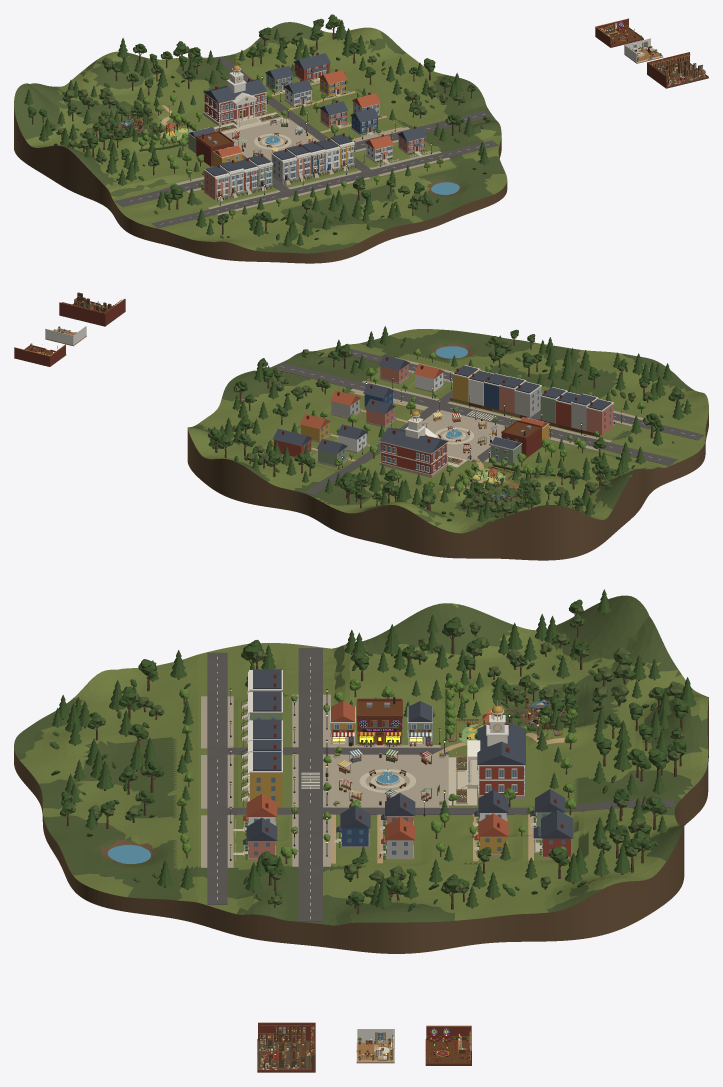
File: oh_darling_town.glb
3 views of the same model, one above another, from view 1: azimuth 30°, elevation 25°; view 2: azimuth 150°, elevation 25°; view 3: azimuth 270°, elevation 25° (orthographic). The views are drawn at different scales.
Parts seen in each view (by area): view 1: SM_Env_Terrain_Main, SM_Env_TownHall, SM_Env_Street_Home, SM_Env_Square_Paving, SM_Env_Street_Main, SM_Env_Street_East, SM_Home_Mayor, SM_Home_Rowhouse_06, SM_NeonPadma_Building, SM_Home_Rowhouse_01, SM_Home_NPC_06, SM_Home_NPC_05 (+14 smaller); view 2: SM_Env_Terrain_Main, SM_Env_TownHall, SM_Env_Street_Main, SM_Env_Square_Paving, SM_NeonPadma_Building, SM_Env_Street_East, SM_Env_Street_Home, SM_Archive_WallsBack, SM_Home_Rowhouse_06, SM_Home_Rowhouse_01, SM_Home_Mayor, SM_Home_NPC_06 (+18 smaller); view 3: SM_Env_Terrain_Main, SM_Env_Street_Main, SM_Env_Street_Home, SM_Env_Square_Paving, SM_Env_TownHall, SM_NeonPadma_Building, SM_Env_Street_East, SM_Home_Rowhouse_05, SM_Home_Mayor, SM_Home_NPC_04, SM_Home_Contractor, SM_Home_NPC_06 (+13 smaller).
Boxes of the visible parts, x1,y1,x2,y2 form: SM_Env_Terrain_Main: (14,22,507,263); SM_Env_TownHall: (203,62,267,126); SM_Env_Street_Home: (151,140,498,228); SM_Env_Square_Paving: (224,118,319,160); SM_Env_Street_Main: (115,110,492,206); SM_Env_Street_East: (214,56,374,176); SM_Home_Mayor: (294,52,330,82); SM_Home_Rowhouse_06: (204,164,230,201); SM_NeonPadma_Building: (195,131,234,166); SM_Home_Rowhouse_01: (271,148,297,185); SM_Home_NPC_06: (397,126,430,157); SM_Home_NPC_05: (365,134,398,165); SM_Env_Terrain_Main: (187,329,708,560); SM_Env_TownHall: (379,407,448,477); SM_Env_Street_Main: (274,362,677,465); SM_Env_Square_Paving: (422,412,504,460); SM_NeonPadma_Building: (501,420,542,458); SM_Env_Street_East: (305,389,452,495); SM_Env_Street_Home: (334,348,704,440); SM_Archive_WallsBack: (59,299,125,325); SM_Home_Rowhouse_06: (586,398,614,435); SM_Home_Rowhouse_01: (514,381,541,417); SM_Home_Mayor: (272,428,312,458); SM_Home_NPC_06: (379,355,414,384); SM_Env_Terrain_Main: (14,595,708,953); SM_Env_Street_Main: (298,648,322,921); SM_Env_Street_Home: (207,652,227,904); SM_Env_Square_Paving: (331,754,448,807); SM_Env_TownHall: (461,700,525,799); SM_NeonPadma_Building: (356,696,402,746); SM_Env_Street_East: (226,800,674,815); SM_Home_Rowhouse_05: (241,760,282,807); SM_Home_Mayor: (533,809,573,858); SM_Home_NPC_04: (334,805,370,848); SM_Home_Contractor: (378,817,415,860); SM_Home_NPC_06: (233,817,277,861).
Size of what is drawn, in the model's own units: 252 by 27.93 by 171.
